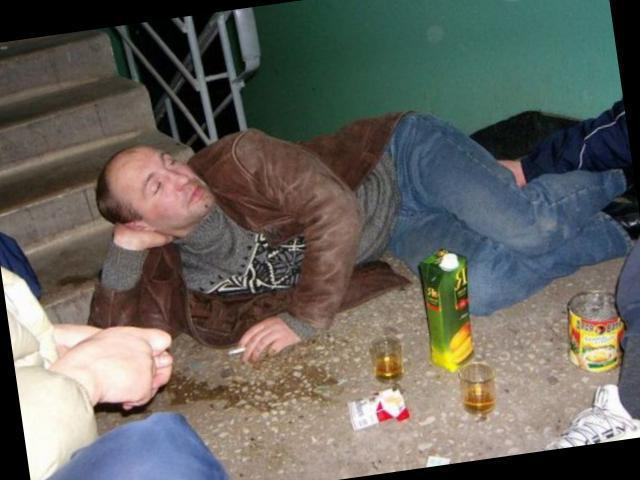Drunk: (109, 149, 213, 225)
